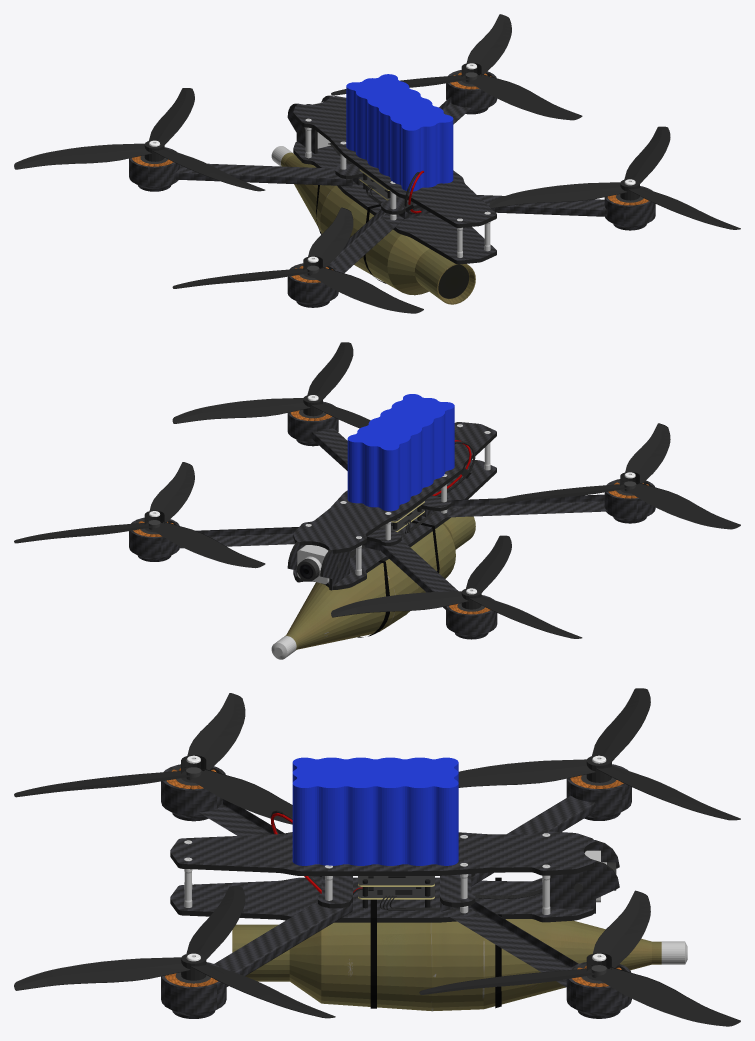
Rendered from dron2.glb.
3 renders of one model, top to bottom at view 1: azimuth 30°, elevation 25°; view 2: azimuth 150°, elevation 25°; view 3: azimuth 270°, elevation 25°, orthographic. The views are drawn at different scales.
Visible parts, largest first — view 1: object 9, object 10, object 2, wirt2, wirt4, wirt1, wirt3, Object_Material.003_0, object 8; view 2: object 9, object 10, object 2, wirt4, wirt3, wirt1, wirt2, Object_Material.003_0, object 6, object 8; view 3: object 9, object 2, object 10, wirt2, wirt3, Object_Material.003_0, wirt4, wirt1, object 8.
Part boxes in pixels (<box>): object 9: <box>129,70,655,307</box>; object 10: <box>346,74,453,191</box>; object 2: <box>281,152,475,304</box>; wirt2: <box>489,126,740,229</box>; wirt4: <box>14,88,265,191</box>; wirt1: <box>172,207,423,313</box>; wirt3: <box>331,14,582,120</box>; Object_Material.003_0: <box>132,63,648,283</box>; object 8: <box>305,118,490,257</box>; object 9: <box>129,401,655,639</box>; object 10: <box>347,394,454,511</box>; object 2: <box>284,516,475,650</box>; wirt4: <box>331,535,582,638</box>; wirt3: <box>14,462,265,568</box>; wirt1: <box>489,423,740,529</box>; wirt2: <box>172,342,370,428</box>; Object_Material.003_0: <box>133,395,651,659</box>; object 6: <box>297,545,340,584</box>; object 8: <box>305,424,490,575</box>; object 9: <box>161,764,631,1018</box>; object 2: <box>232,919,661,1011</box>; object 10: <box>292,757,458,865</box>; wirt2: <box>14,886,335,1018</box>; wirt3: <box>419,890,740,1026</box>; Object_Material.003_0: <box>165,755,687,1008</box>; wirt4: <box>458,688,740,820</box>; wirt1: <box>14,693,292,824</box>; object 8: <box>184,833,550,914</box>.
Size of the model in its own units: 10.65 by 3.49 by 9.88.
10 materials, 9 textured.
